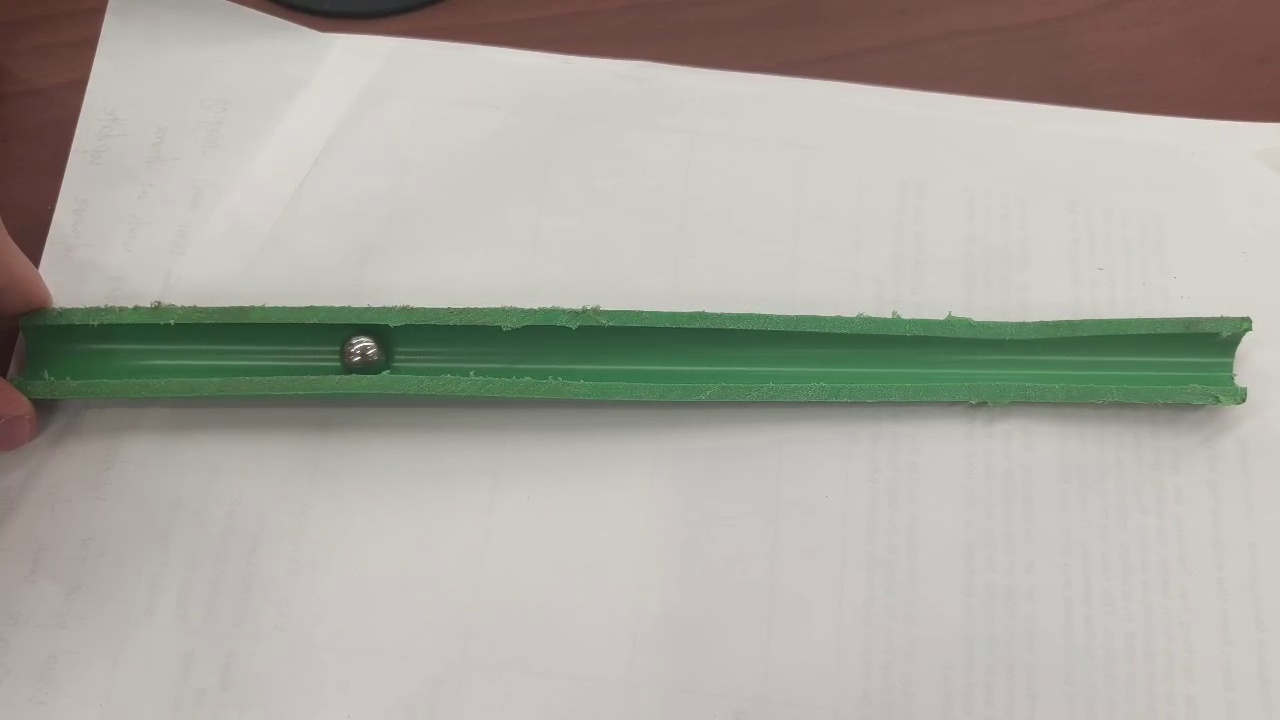ball: (343, 336, 381, 366)
